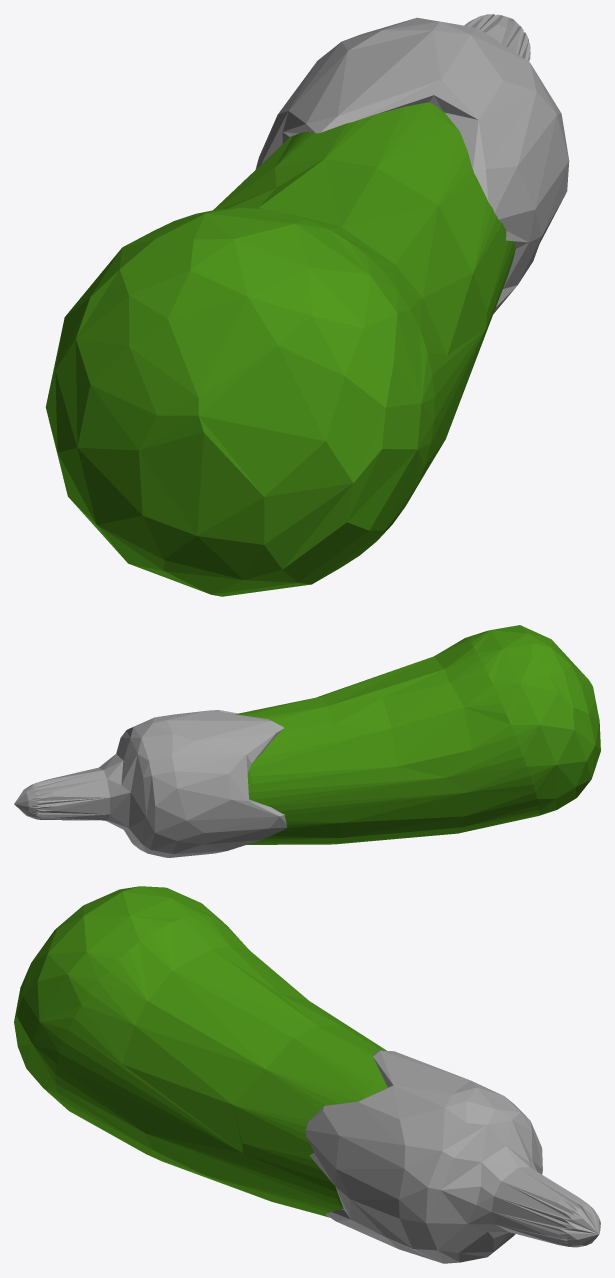
File: Eggplant.dae
The picture shows the model from 3 angles, top to bottom: view 1: azimuth 30°, elevation 25°; view 2: azimuth 150°, elevation 25°; view 3: azimuth 270°, elevation 25°; orthographic projection. The views are drawn at different scales.
Parts seen in each view (by area): view 1: node; view 2: node; view 3: node.
Boxes of the visible parts, x1,y1,x2,y2 form: node: [45, 14, 569, 596]; node: [14, 625, 600, 857]; node: [14, 886, 600, 1263].
Size of the model in its own units: 0.9938 by 0.4391 by 1.
